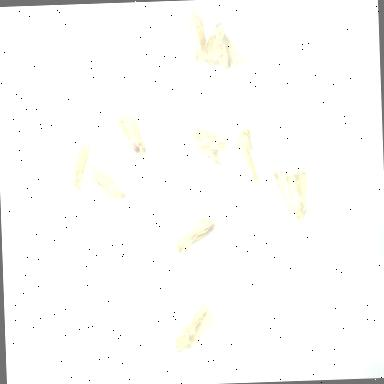abw: (167, 292, 220, 356), (197, 18, 251, 74), (169, 206, 222, 262), (270, 162, 314, 228), (106, 97, 150, 160), (60, 122, 97, 195), (186, 121, 235, 175), (80, 158, 130, 208), (232, 124, 262, 198), (180, 3, 211, 70)
